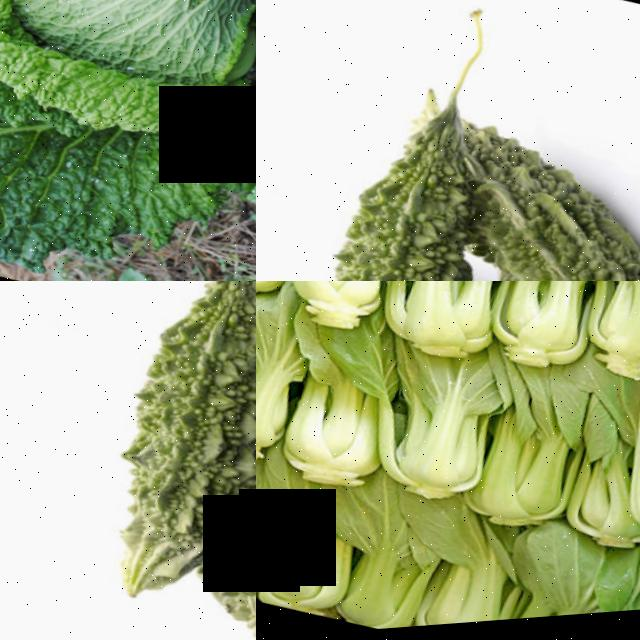bitter gourd: (40, 281, 256, 617), (256, 85, 480, 281), (448, 136, 640, 281)
bok choy: (262, 320, 424, 520), (376, 345, 499, 518), (472, 348, 589, 528), (339, 491, 451, 635), (369, 281, 536, 374), (562, 369, 640, 533), (490, 281, 632, 370), (425, 514, 520, 630), (256, 490, 341, 605), (493, 525, 584, 626), (267, 281, 416, 337), (256, 310, 305, 464), (557, 546, 640, 622)
cabbage: (0, 0, 256, 256)
